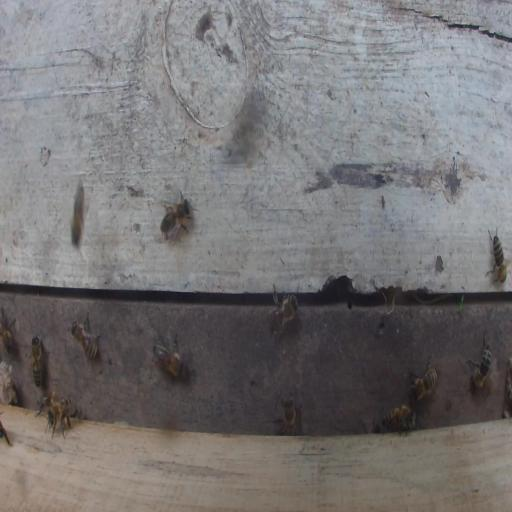bee: (160, 187, 194, 243), (71, 310, 98, 377), (465, 334, 492, 391), (266, 283, 299, 329), (152, 332, 184, 378), (484, 225, 508, 285), (45, 397, 77, 441), (381, 403, 417, 440), (410, 360, 438, 403), (0, 306, 18, 357), (276, 397, 299, 436), (72, 181, 85, 244), (30, 334, 44, 389), (34, 390, 58, 418)
